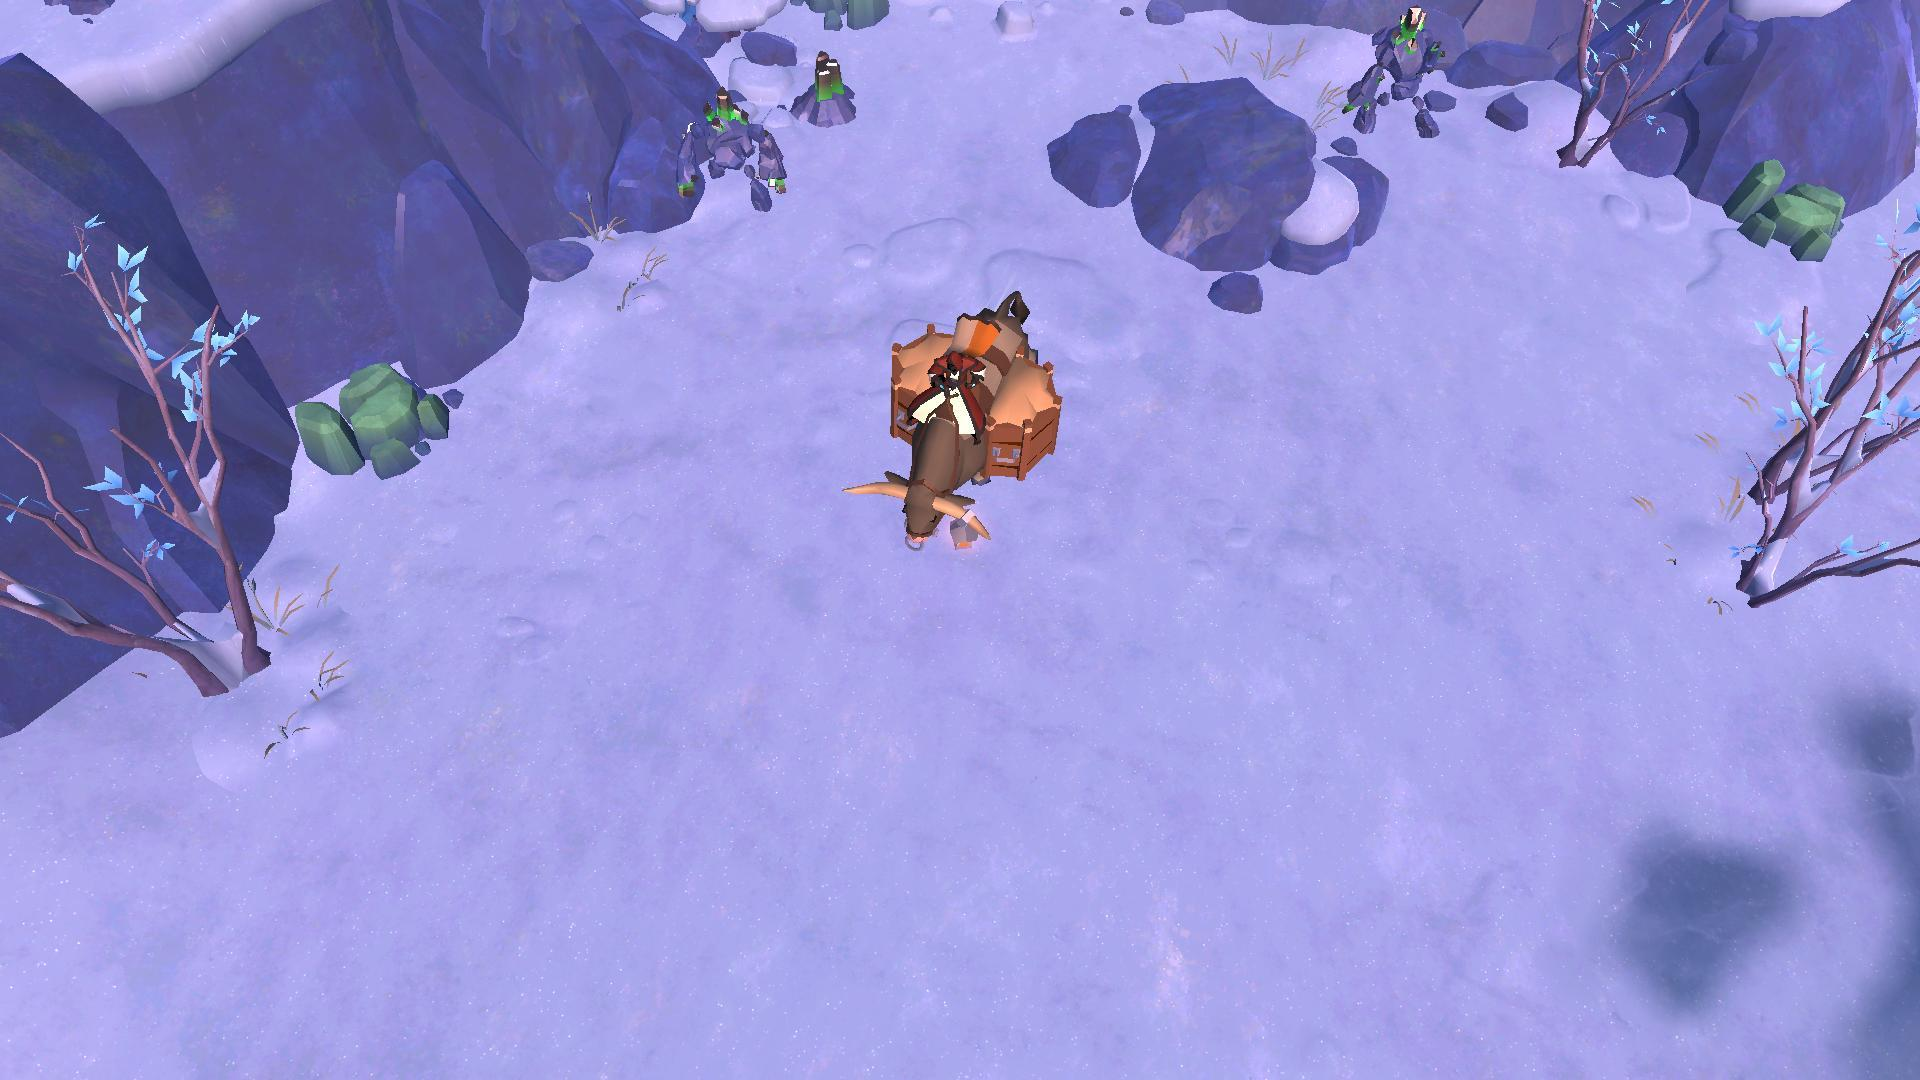ore_t3: (811, 42, 851, 108)
rock_t3: (273, 351, 471, 483), (1708, 138, 1859, 266), (782, 0, 895, 36)
